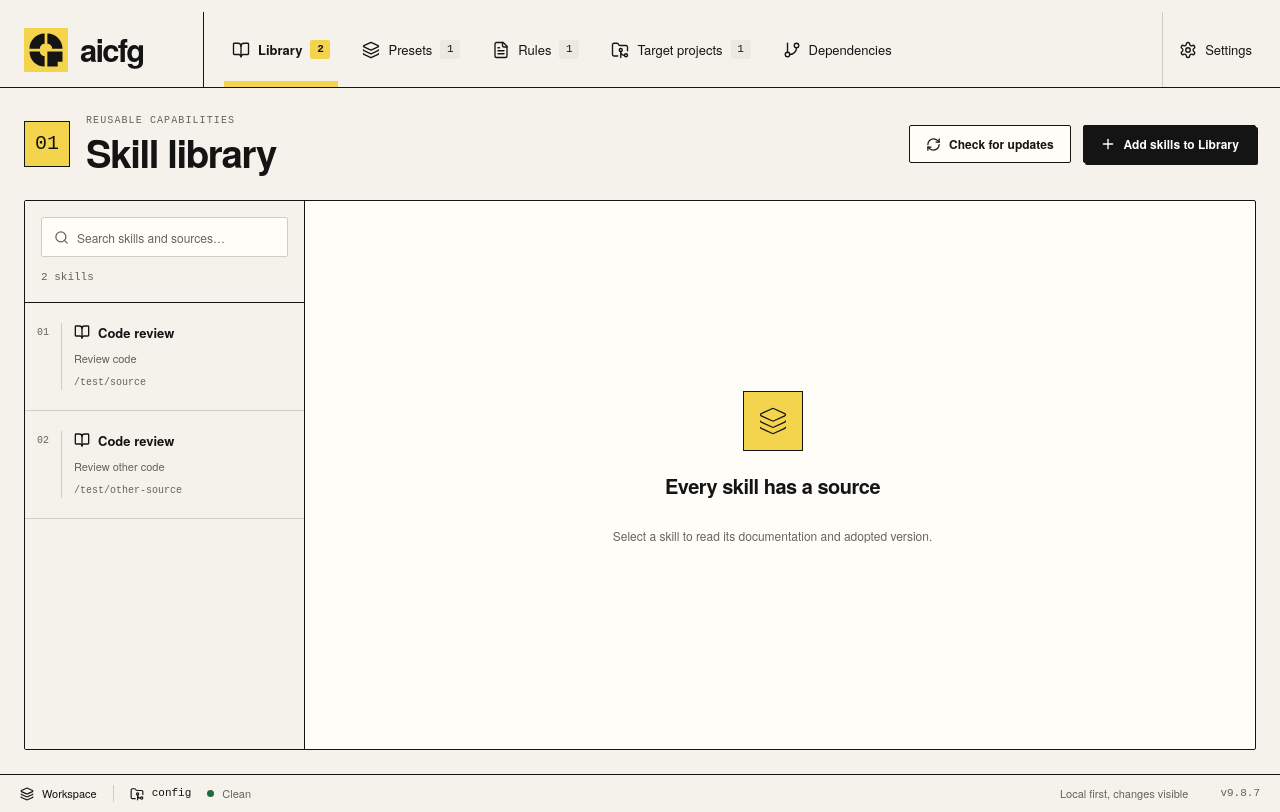
Test case: Skill detail loading › ignores an older read that completes with resolve after a newer selection
Click the 1st button with class "row-main": (144,356) [25, 302, 264, 410]
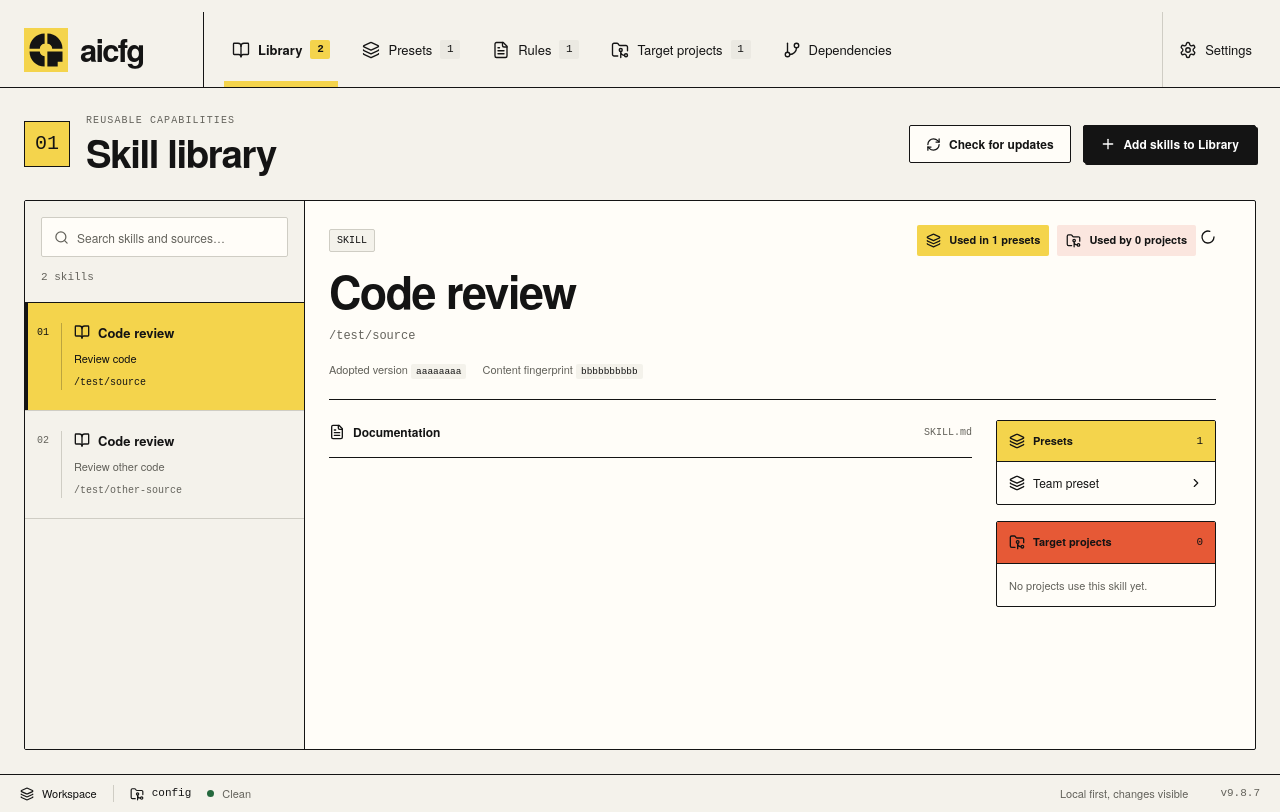
Click the 2nd button with class "row-main": (144,464) [25, 410, 264, 518]
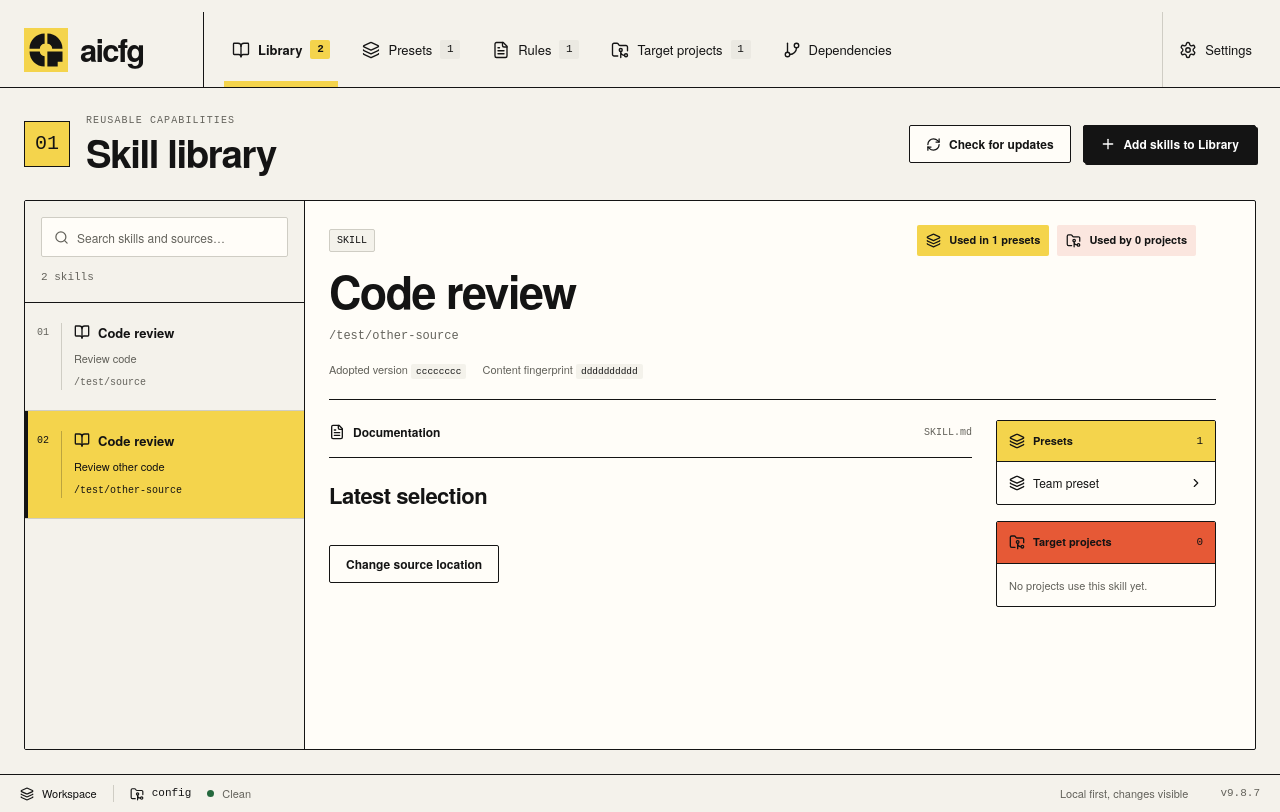
Check: the element with class "markdown" reads "Latest selection", box [329, 479, 487, 511]
